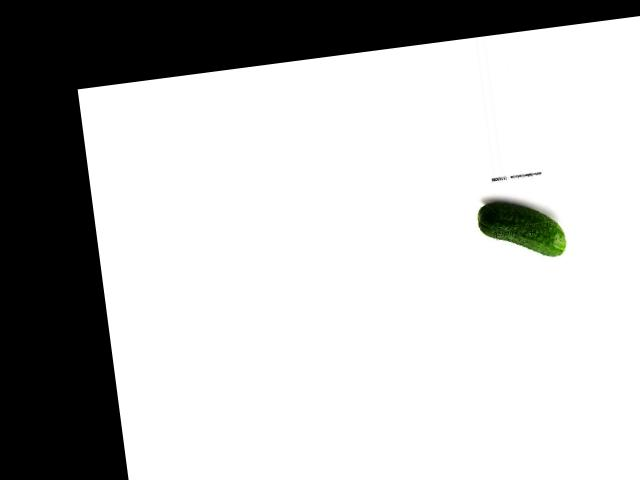cucumber: (475, 193, 567, 265)
